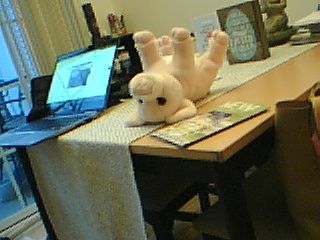piggy: (122, 25, 230, 130)
